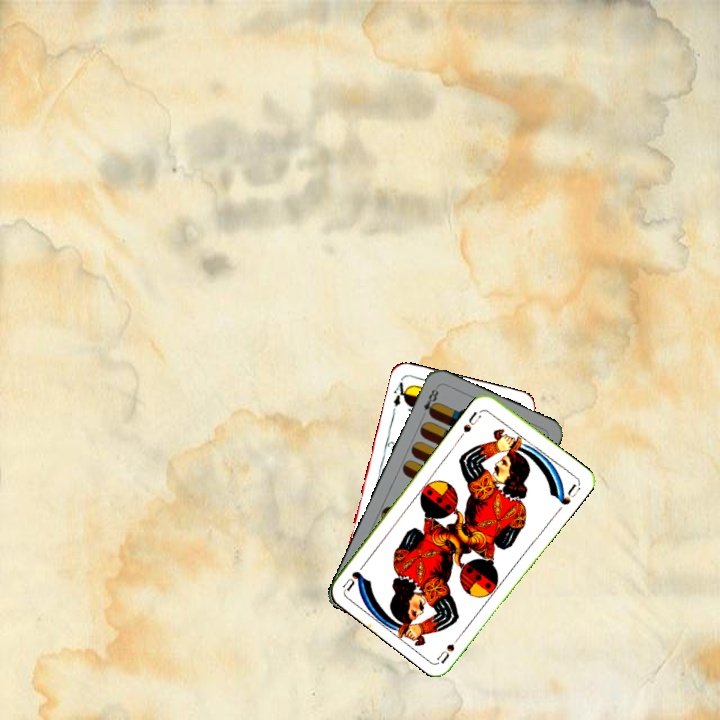E8: (419, 383, 441, 419)
EA: (389, 378, 411, 409)
SU: (434, 629, 465, 665), (459, 407, 484, 435)
